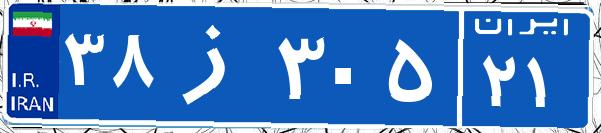0: (330, 28, 385, 110)
1: (525, 38, 570, 115)
2: (475, 38, 525, 113)
3: (273, 28, 330, 110), (57, 26, 110, 107)
5: (385, 28, 445, 110)
8: (110, 28, 158, 105)
ز: (158, 15, 273, 115)
